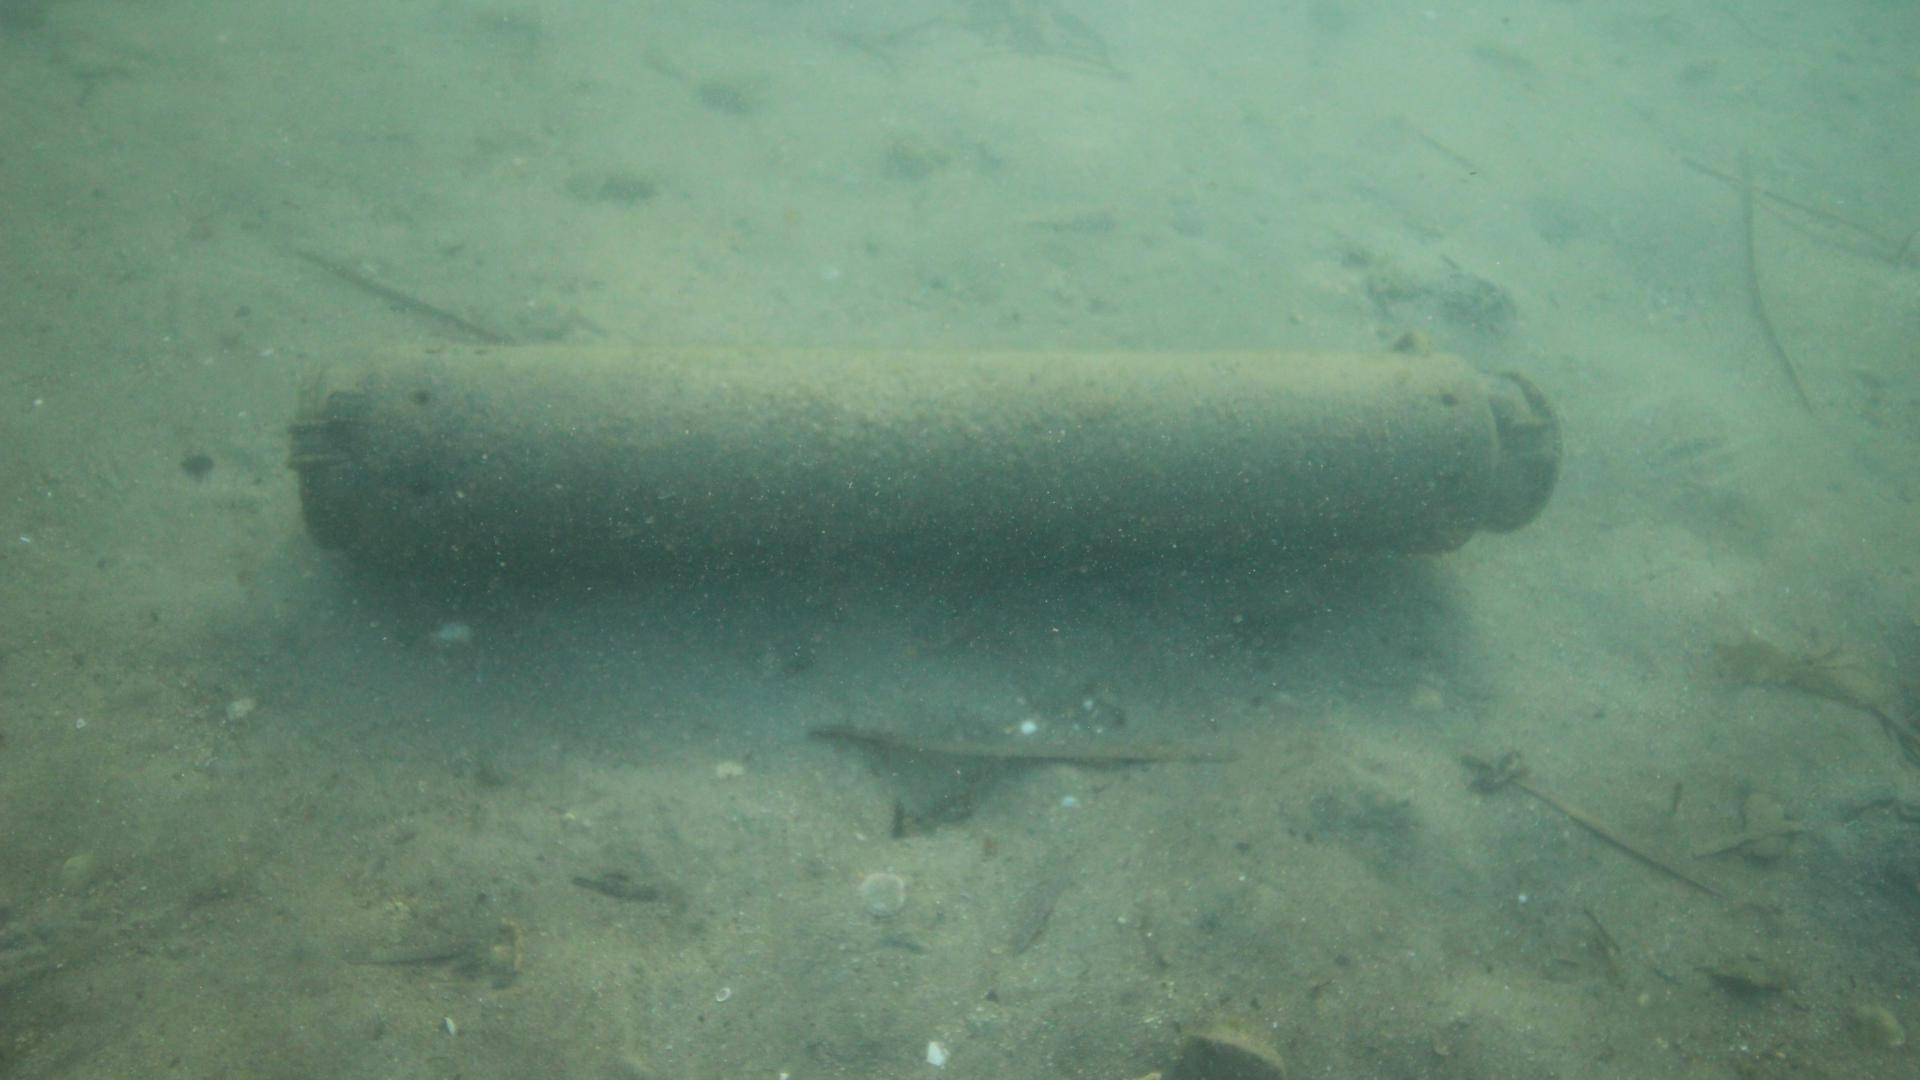eel fish trap: (287, 345, 1560, 574)
